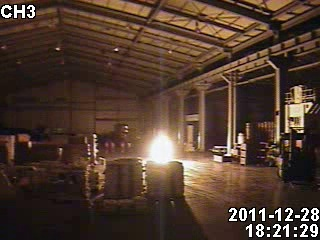fire: (149, 123, 175, 163)
